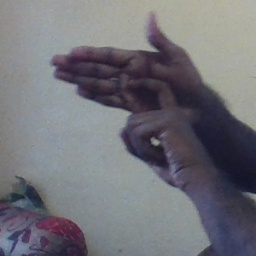R: (51, 10, 209, 172)
